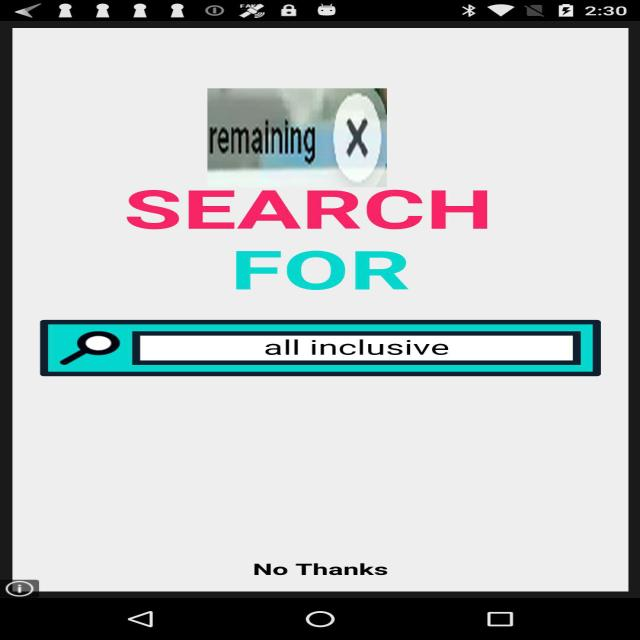misdirection: (207, 89, 387, 188)
